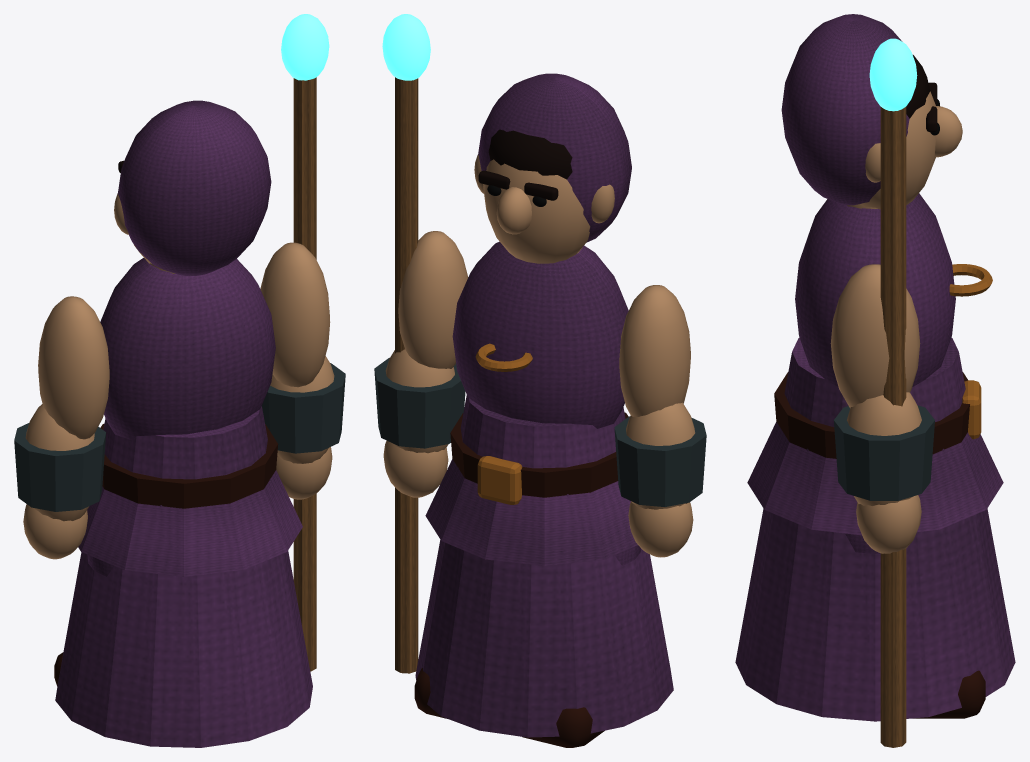
File: akara.glb
3 views of the same model, side by side, from view 1: azimuth 30°, elevation 25°; view 2: azimuth 150°, elevation 25°; view 3: azimuth 270°, elevation 25° (orthographic). The views are drawn at different scales.
Visible parts, largest first — view 1: Chest, Hand, Hand.001, Oak staff, Bracer, Waist belt, Bracer.001, Staff stone; view 2: Chest, Hand, Hand.001, Oak staff, Head, Bracer, Bracer.001, Waist belt, Brow.001, Bronze pendant, Staff stone, Foot (+1 smaller); view 3: Chest, Hand.001, Oak staff, Bracer.001, Head, Waist belt, Staff stone, Bronze pendant, Foot.001, Brow.001.
Boxes of the visible parts, bbox=[...] form: Chest: bbox=[55, 100, 312, 747]; Hand: bbox=[23, 296, 109, 559]; Hand.001: bbox=[260, 242, 334, 499]; Oak staff: bbox=[293, 77, 316, 671]; Bracer: bbox=[14, 423, 106, 511]; Waist belt: bbox=[100, 423, 278, 508]; Bracer.001: bbox=[262, 363, 345, 453]; Staff stone: bbox=[281, 14, 329, 80]; Chest: bbox=[415, 73, 673, 737]; Hand: bbox=[619, 285, 695, 557]; Hand.001: bbox=[383, 231, 468, 497]; Oak staff: bbox=[395, 77, 418, 673]; Head: bbox=[474, 155, 614, 263]; Bracer: bbox=[614, 416, 706, 506]; Bracer.001: bbox=[374, 357, 465, 448]; Waist belt: bbox=[450, 412, 628, 497]; Brow.001: bbox=[478, 129, 572, 200]; Bronze pendant: bbox=[475, 343, 532, 504]; Staff stone: bbox=[382, 14, 430, 80]; Foot: bbox=[522, 707, 604, 747]; Chest: bbox=[735, 14, 1015, 721]; Hand.001: bbox=[830, 264, 921, 553]; Oak staff: bbox=[880, 107, 906, 747]; Bracer.001: bbox=[833, 405, 934, 500]; Head: bbox=[847, 91, 962, 209]; Waist belt: bbox=[774, 372, 969, 458]; Staff stone: bbox=[869, 38, 917, 111]; Bronze pendant: bbox=[949, 264, 992, 439]; Foot.001: bbox=[913, 670, 985, 718]; Brow.001: bbox=[906, 55, 937, 132].
Bounding box in the file's own units: 1.32 × 2.65 × 0.94.
9 materials, 2 textured.
